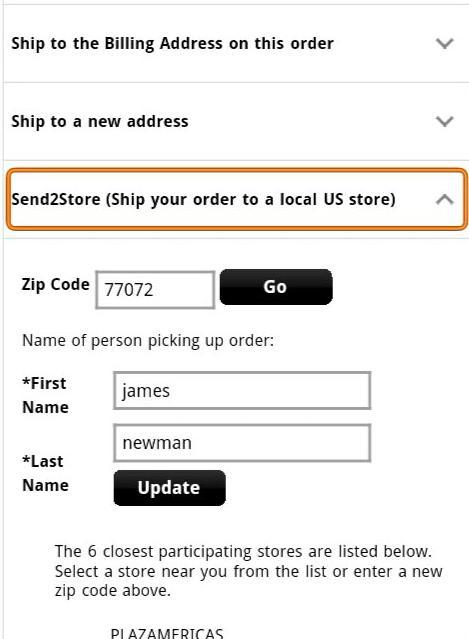button: (114, 472, 229, 508), (223, 271, 334, 306)
dropdown: (4, 1, 469, 85), (3, 84, 468, 161), (2, 159, 469, 232)
input: (116, 424, 374, 465), (117, 374, 372, 409), (97, 270, 216, 312)
label: (5, 445, 82, 502), (17, 367, 78, 421), (14, 269, 93, 302)
